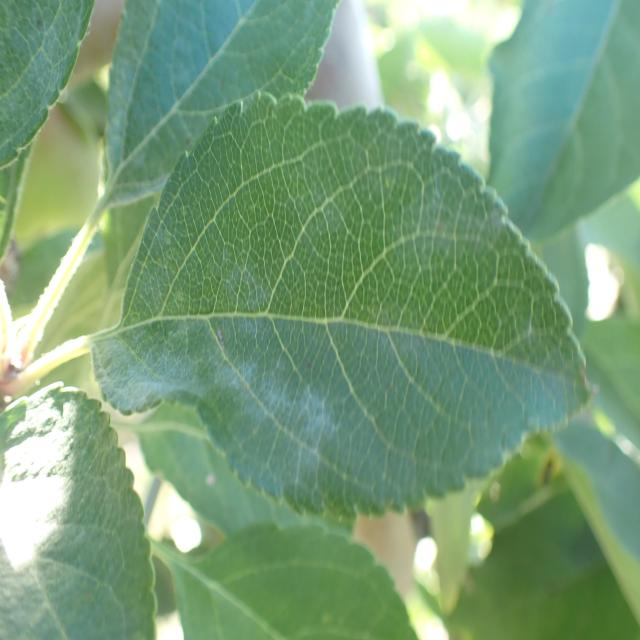Powdery_mildew: (110, 101, 590, 524)
